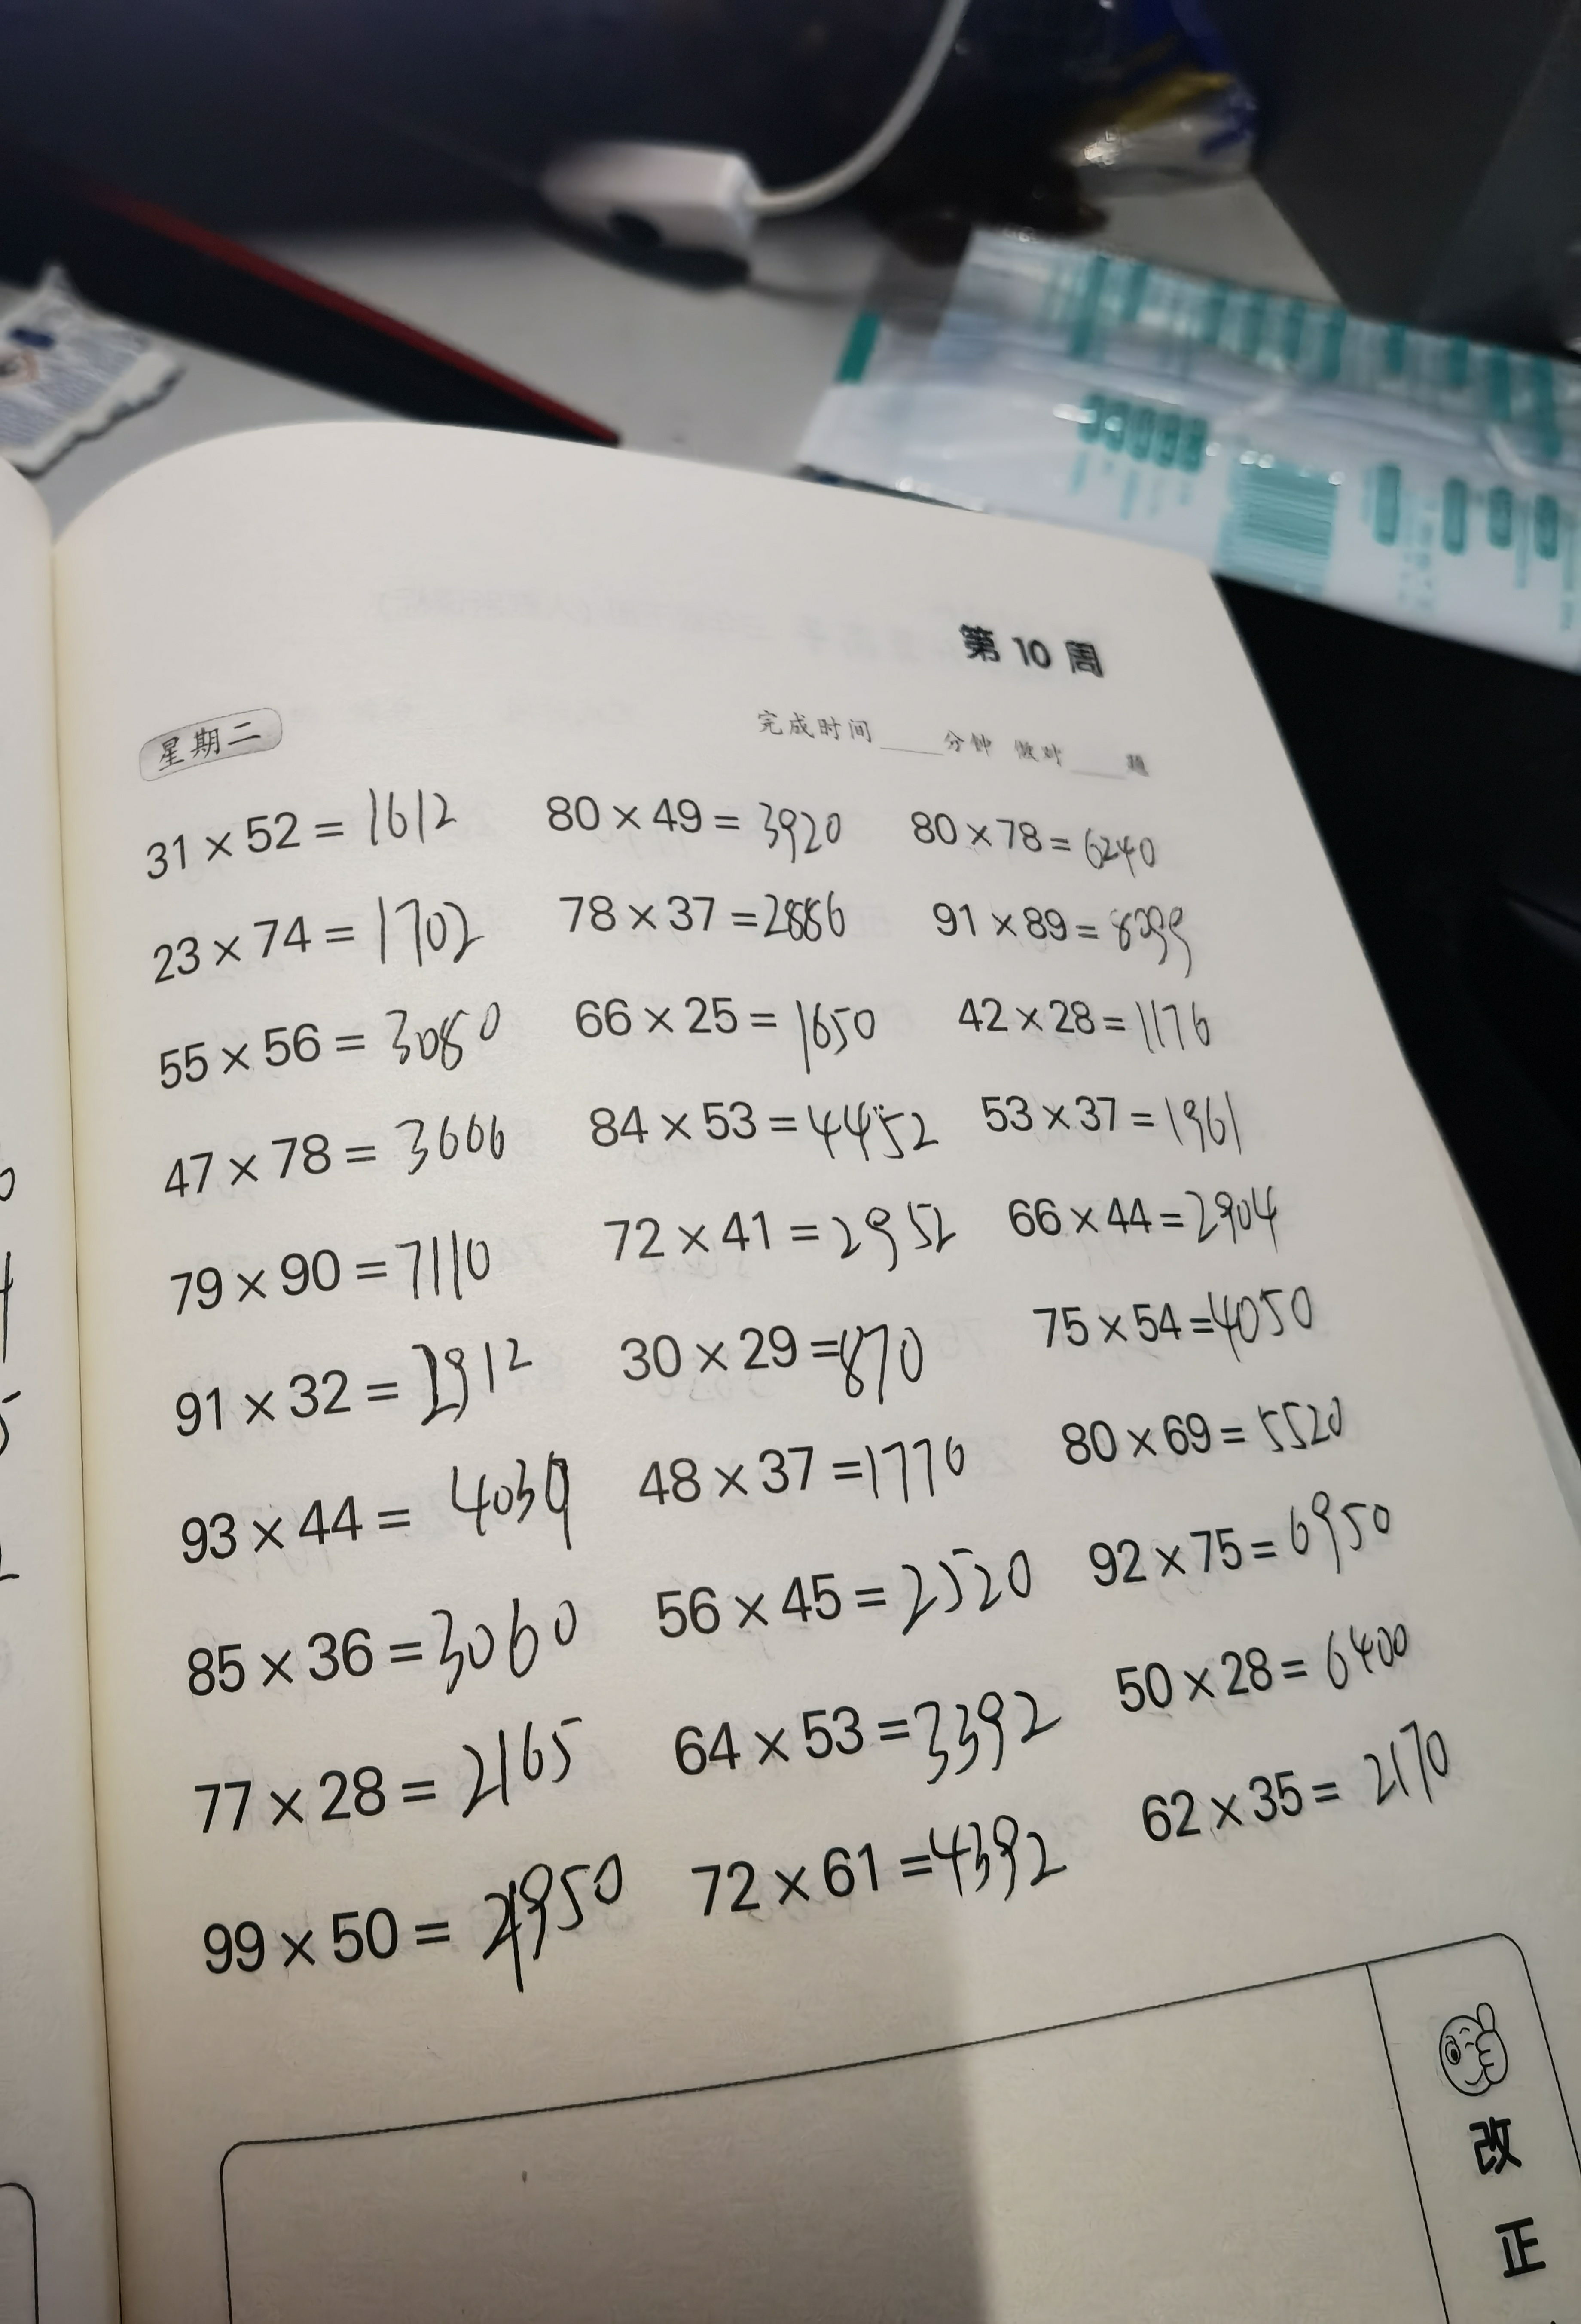equation: (176, 1849, 683, 2014), (1128, 1734, 1506, 1880), (168, 1448, 611, 1567), (652, 1541, 1066, 1653), (168, 1728, 630, 1825), (661, 1685, 1089, 1785), (176, 1596, 611, 1691), (121, 888, 510, 993), (111, 777, 487, 878), (616, 1304, 965, 1412), (150, 1103, 535, 1197), (906, 778, 1218, 893), (690, 1821, 1113, 1905), (130, 1010, 549, 1092), (575, 1087, 953, 1178), (566, 981, 898, 1077), (549, 768, 857, 871), (630, 1433, 1015, 1512), (922, 888, 1247, 979), (1108, 1622, 1455, 1704), (1077, 1508, 1429, 1587), (145, 1226, 510, 1300), (1006, 1170, 1303, 1256), (166, 1354, 540, 1421), (602, 1197, 979, 1263), (986, 1073, 1271, 1159), (1047, 1393, 1386, 1465), (946, 982, 1247, 1060), (1042, 1275, 1348, 1350), (570, 888, 896, 957)
